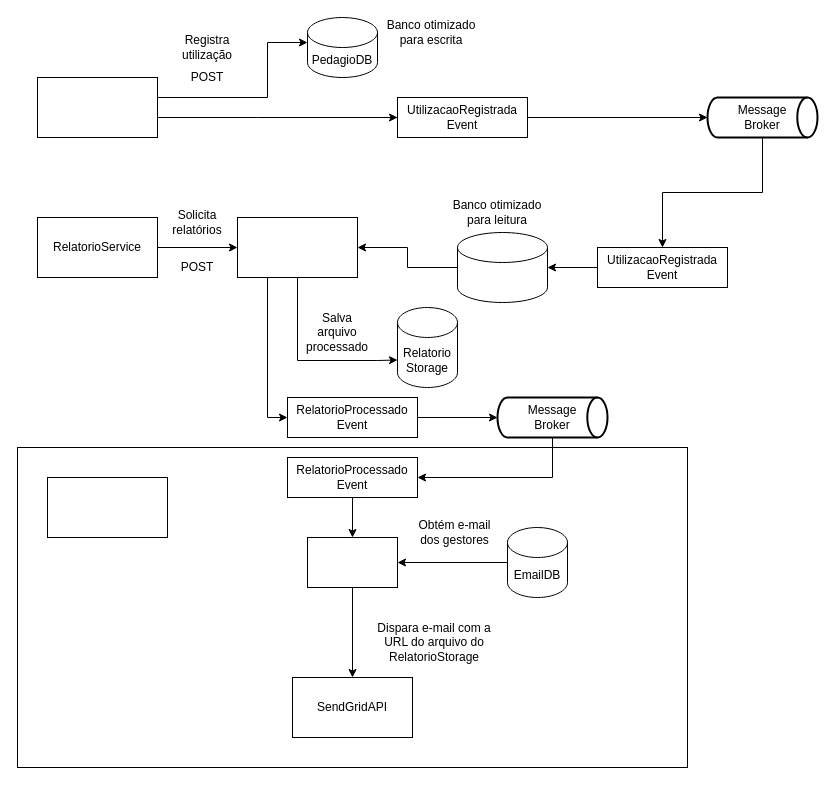
Image size: 836x785. Some labels were removed from this diagram. Here are the shapes that lost their labels. From the top down, the box of each, then its label:
(36, 76, 158, 138): PedagioService
(236, 216, 358, 278): RelatorioAsync Processor
(456, 232, 548, 302): RelatorioDB
(46, 476, 168, 538): EmailService
(306, 536, 398, 588): EmailBuilder
